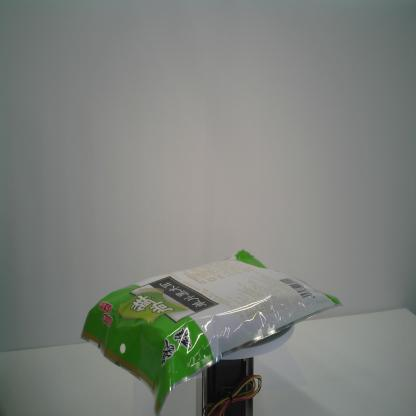Dried Food: (80, 247, 345, 416)
